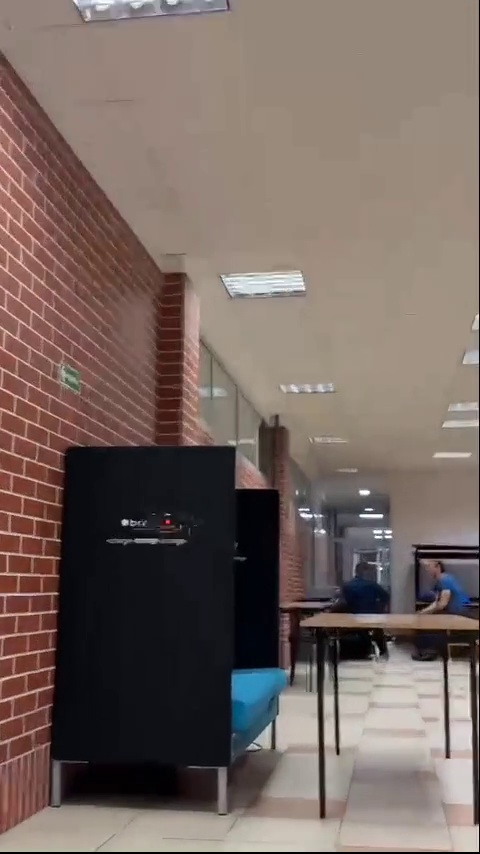drone: (153, 512, 195, 535)
no vest: (420, 555, 467, 613), (342, 561, 394, 611)
